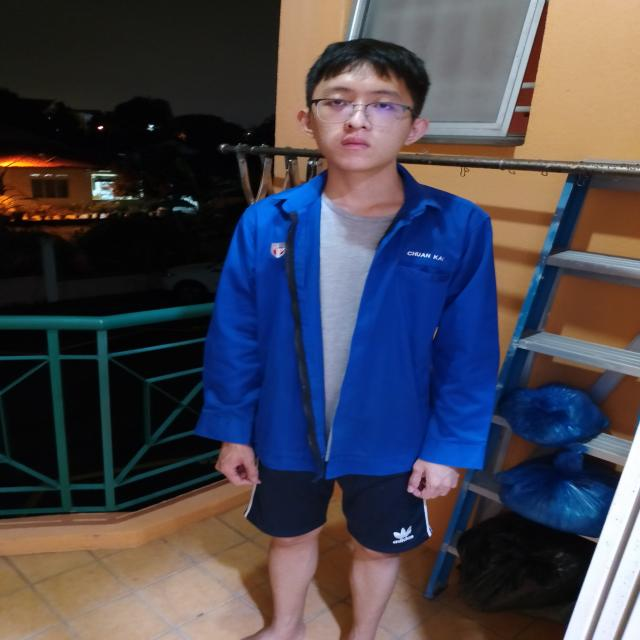person_with_labcoat: (195, 39, 499, 640)
